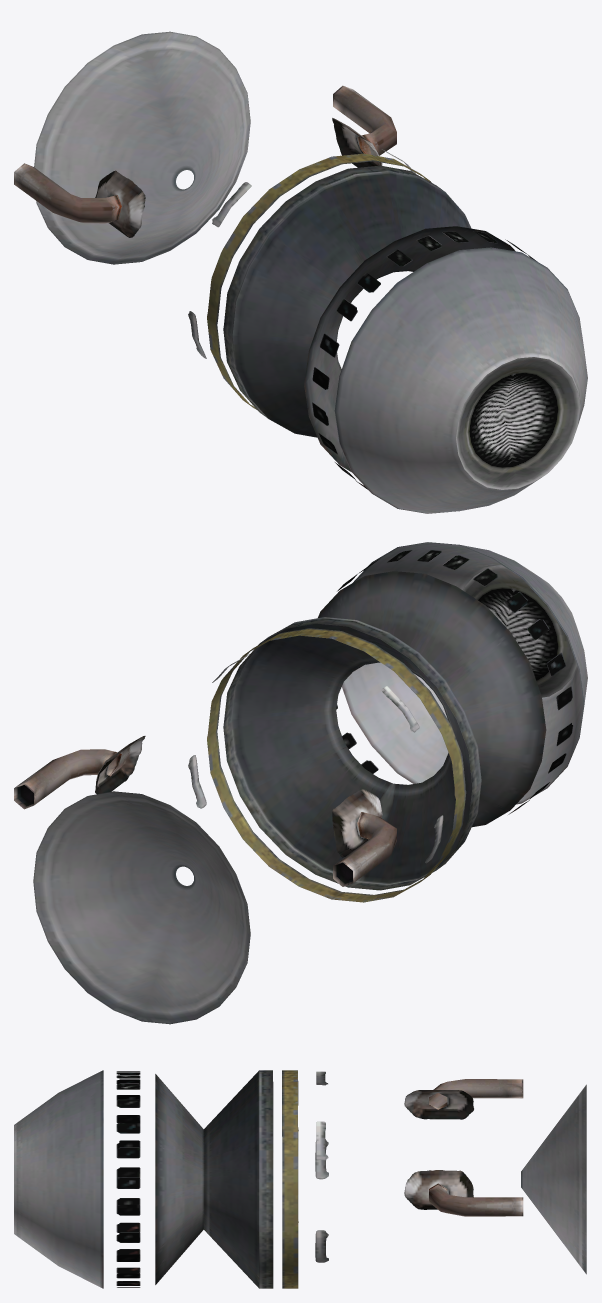
Rendered from ship_component_reactor_s01_l0.fbx.
The picture shows the model from 3 angles, top to bottom: view 1: azimuth 30°, elevation 25°; view 2: azimuth 150°, elevation 25°; view 3: azimuth 270°, elevation 25°; orthographic projection. The views are drawn at different scales.
Visible parts, largest first — view 1: mesh_node; view 2: mesh_node; view 3: mesh_node.
Part boxes in pixels (x1,y1,x2,y2): mesh_node: [14, 31, 587, 513]; mesh_node: [14, 542, 587, 1024]; mesh_node: [14, 1070, 586, 1288].
Bounding box in the file's own units: 1.23 × 0.9025 × 2.37.
1 material, 1 textured.
